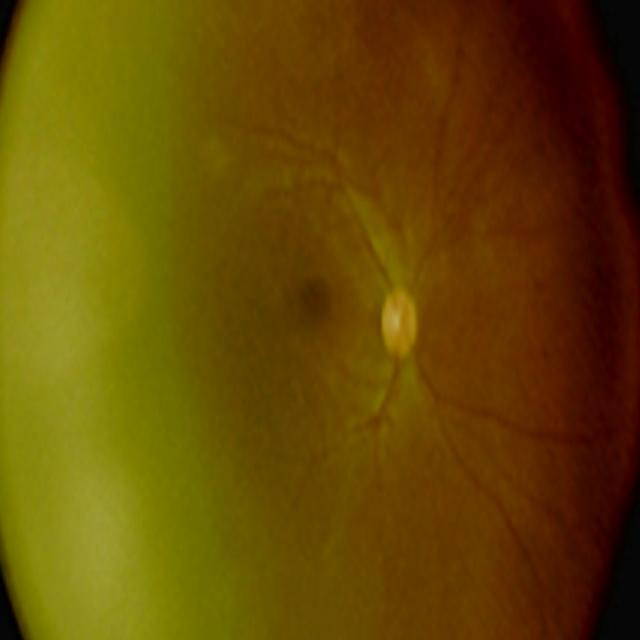optic-nerve: (350, 249, 448, 409)
